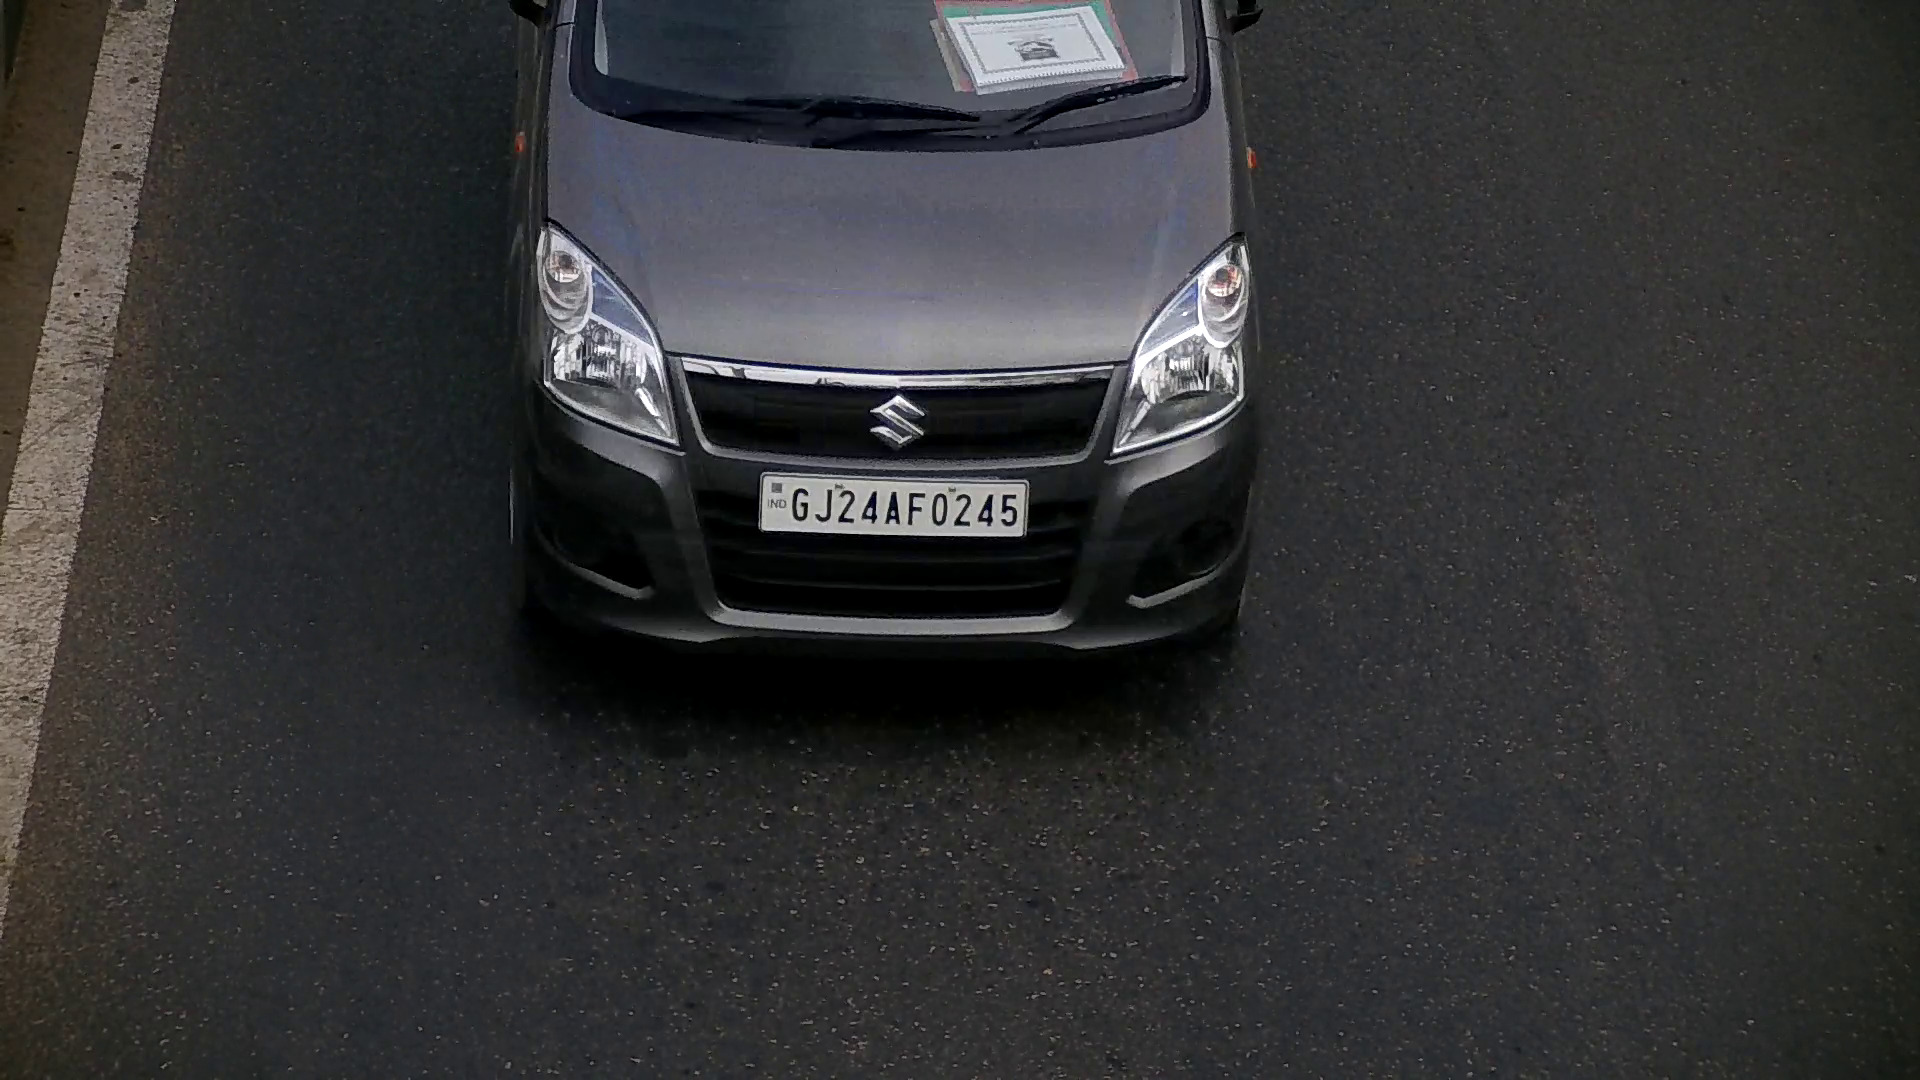numberplate: (757, 472, 1030, 542)
